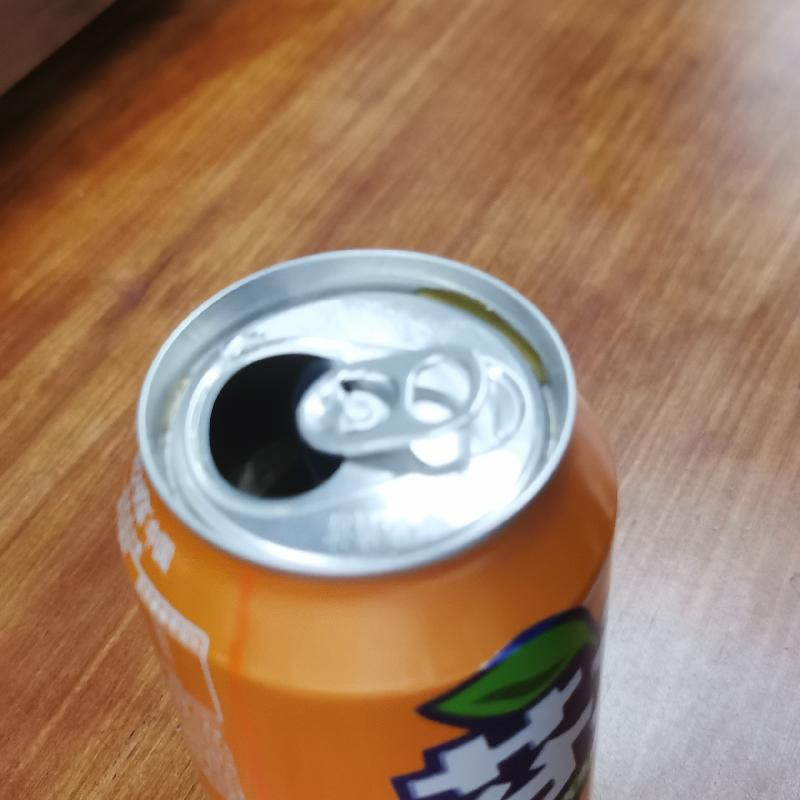cans: (106, 245, 622, 800)
